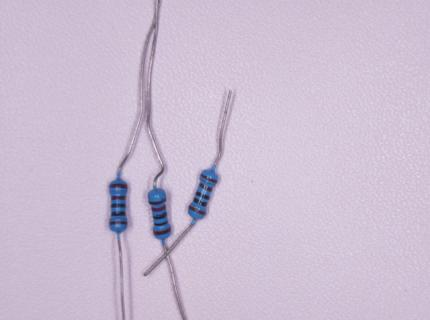Brown band: (199, 183, 213, 192), (111, 196, 126, 201)
